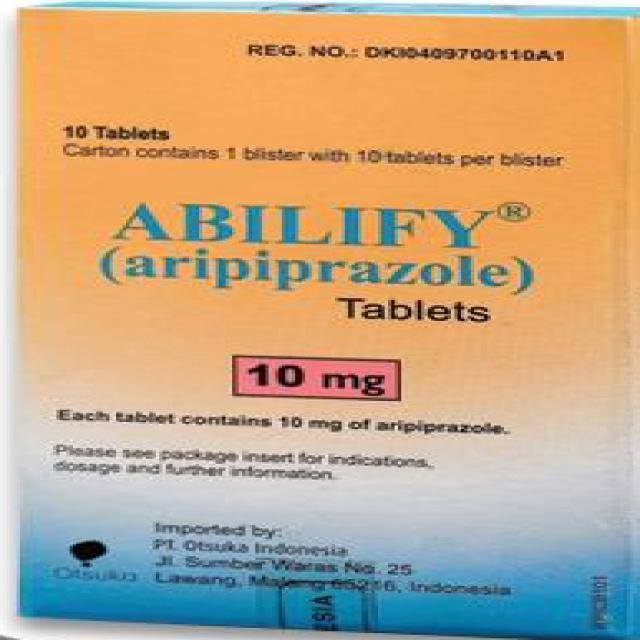drug-name: (109, 202, 494, 253)
